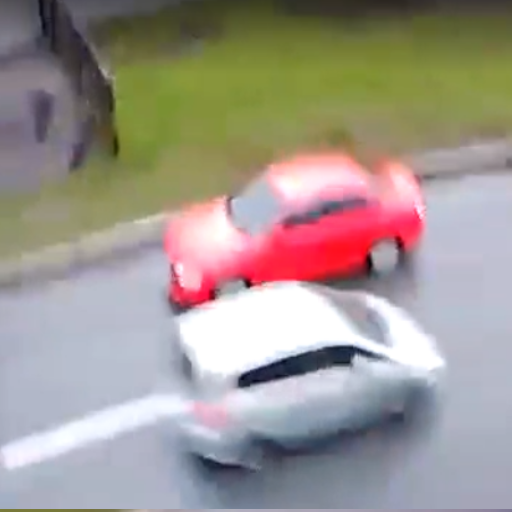Car: (165, 291, 436, 454), (158, 152, 425, 296)
